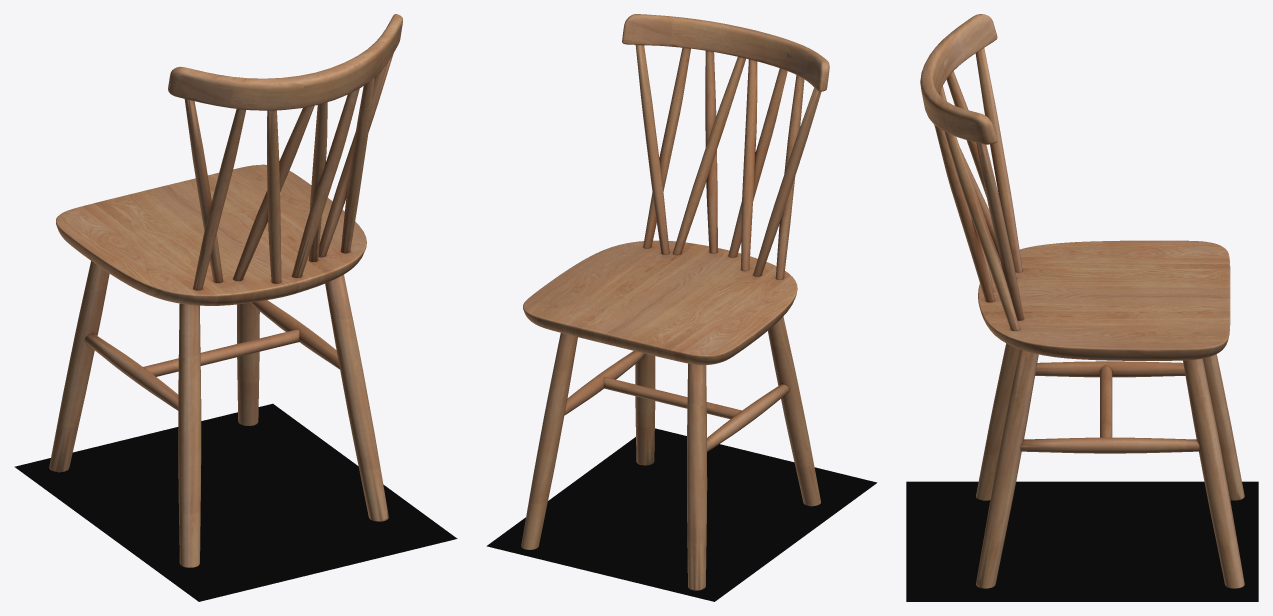
Rendered from chair_armchair_54fdae2b-cf40-512e-8f87-1b713e4bdd69.glb.
3 renders of one model, left to right at view 1: azimuth 30°, elevation 25°; view 2: azimuth 150°, elevation 25°; view 3: azimuth 270°, elevation 25°, orthographic. The views are drawn at different scales.
Visible parts, largest first — view 1: raw_model.obj; view 2: raw_model.obj; view 3: raw_model.obj.
Part boxes in pixels (<box>): raw_model.obj: <box>14,14,457,601</box>; raw_model.obj: <box>486,14,876,601</box>; raw_model.obj: <box>906,14,1258,601</box>.
Bounding box in the file's own units: 0.4814 × 0.89 × 0.5952.
Materials: 1 (1 with a texture image).
